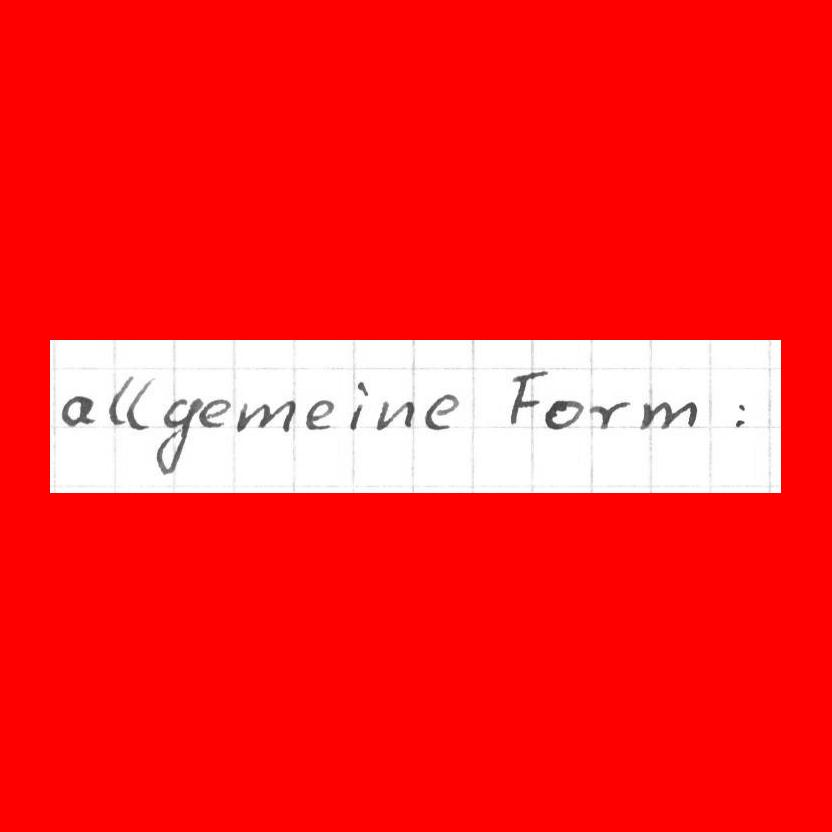Char: (153, 396, 198, 478), (507, 367, 546, 432), (637, 397, 700, 432), (237, 397, 294, 432), (126, 375, 155, 430), (588, 397, 632, 430), (424, 392, 459, 432), (376, 396, 413, 431), (346, 377, 369, 433), (107, 374, 131, 427), (302, 396, 337, 431), (60, 391, 93, 428), (198, 396, 229, 430), (546, 402, 582, 430), (730, 397, 749, 431)
